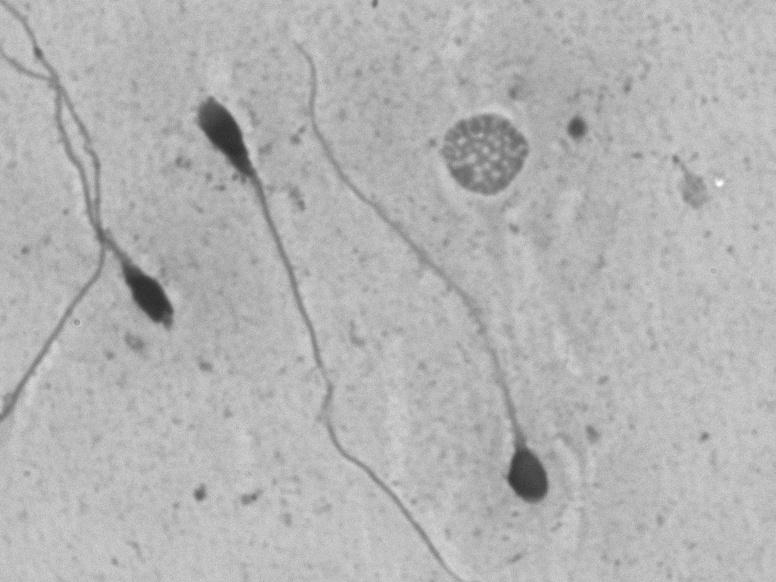Abnormal: (163, 70, 438, 573), (57, 85, 186, 368)
Normal: (258, 21, 575, 544)
